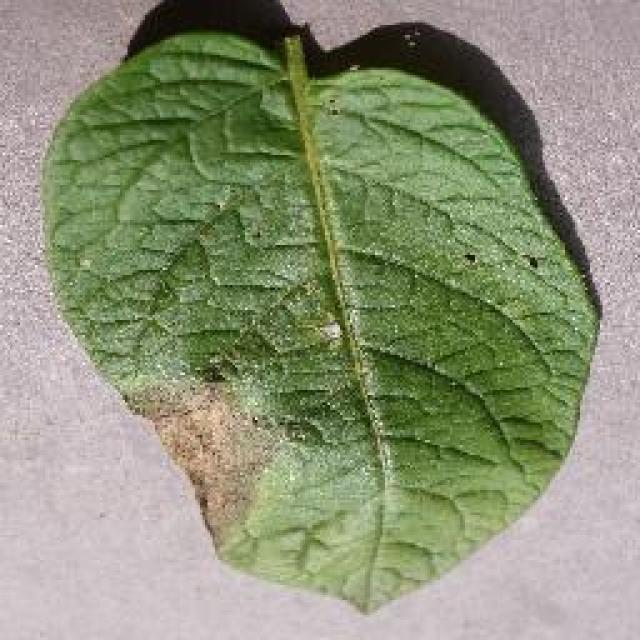Potato___Late_blight: (37, 28, 605, 620)
